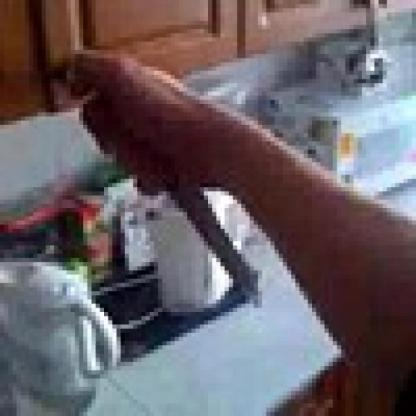Knife: (92, 88, 262, 312)
